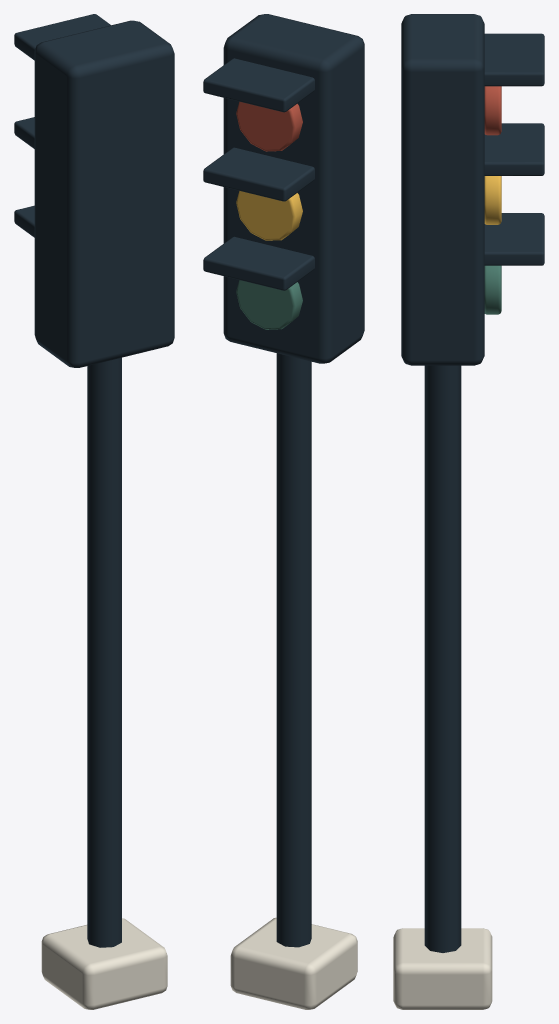
File: traffic_light.glb
3 views of the same model, side by side, from view 1: azimuth 30°, elevation 25°; view 2: azimuth 150°, elevation 25°; view 3: azimuth 270°, elevation 25° (orthographic).
Parts seen in each view (by area): view 1: head, pole, foot, hood, hood.001, hood.002; view 2: head, pole, foot, hood.001, hood.002, hood, lamp_yellow, lamp_green, lamp_red; view 3: head, pole, foot, hood, hood.002, hood.001, lamp_green, lamp_red, lamp_yellow.
Part boxes in pixels (<box>): head: <box>34,20,174,367</box>; pole: <box>87,357,121,947</box>; foot: <box>41,918,167,1009</box>; hood: <box>14,14,110,60</box>; hood.001: <box>14,117,34,148</box>; hood.002: <box>14,205,34,237</box>; head: <box>223,14,364,363</box>; pole: <box>276,353,311,947</box>; foot: <box>230,917,357,1009</box>; hood.001: <box>203,147,314,201</box>; hood.002: <box>203,236,314,290</box>; hood: <box>203,58,314,112</box>; lamp_yellow: <box>236,191,302,240</box>; lamp_green: <box>236,280,302,329</box>; lamp_red: <box>236,101,302,151</box>; head: <box>401,14,484,365</box>; pole: <box>424,365,461,952</box>; foot: <box>393,928,492,1009</box>; hood: <box>484,33,544,86</box>; hood.002: <box>484,213,544,265</box>; hood.001: <box>484,123,544,175</box>; lamp_green: <box>484,265,501,314</box>; lamp_red: <box>484,86,501,135</box>; lamp_yellow: <box>484,176,501,224</box>.
Size of the model in its own units: 0.48 by 4.05 by 0.58.
